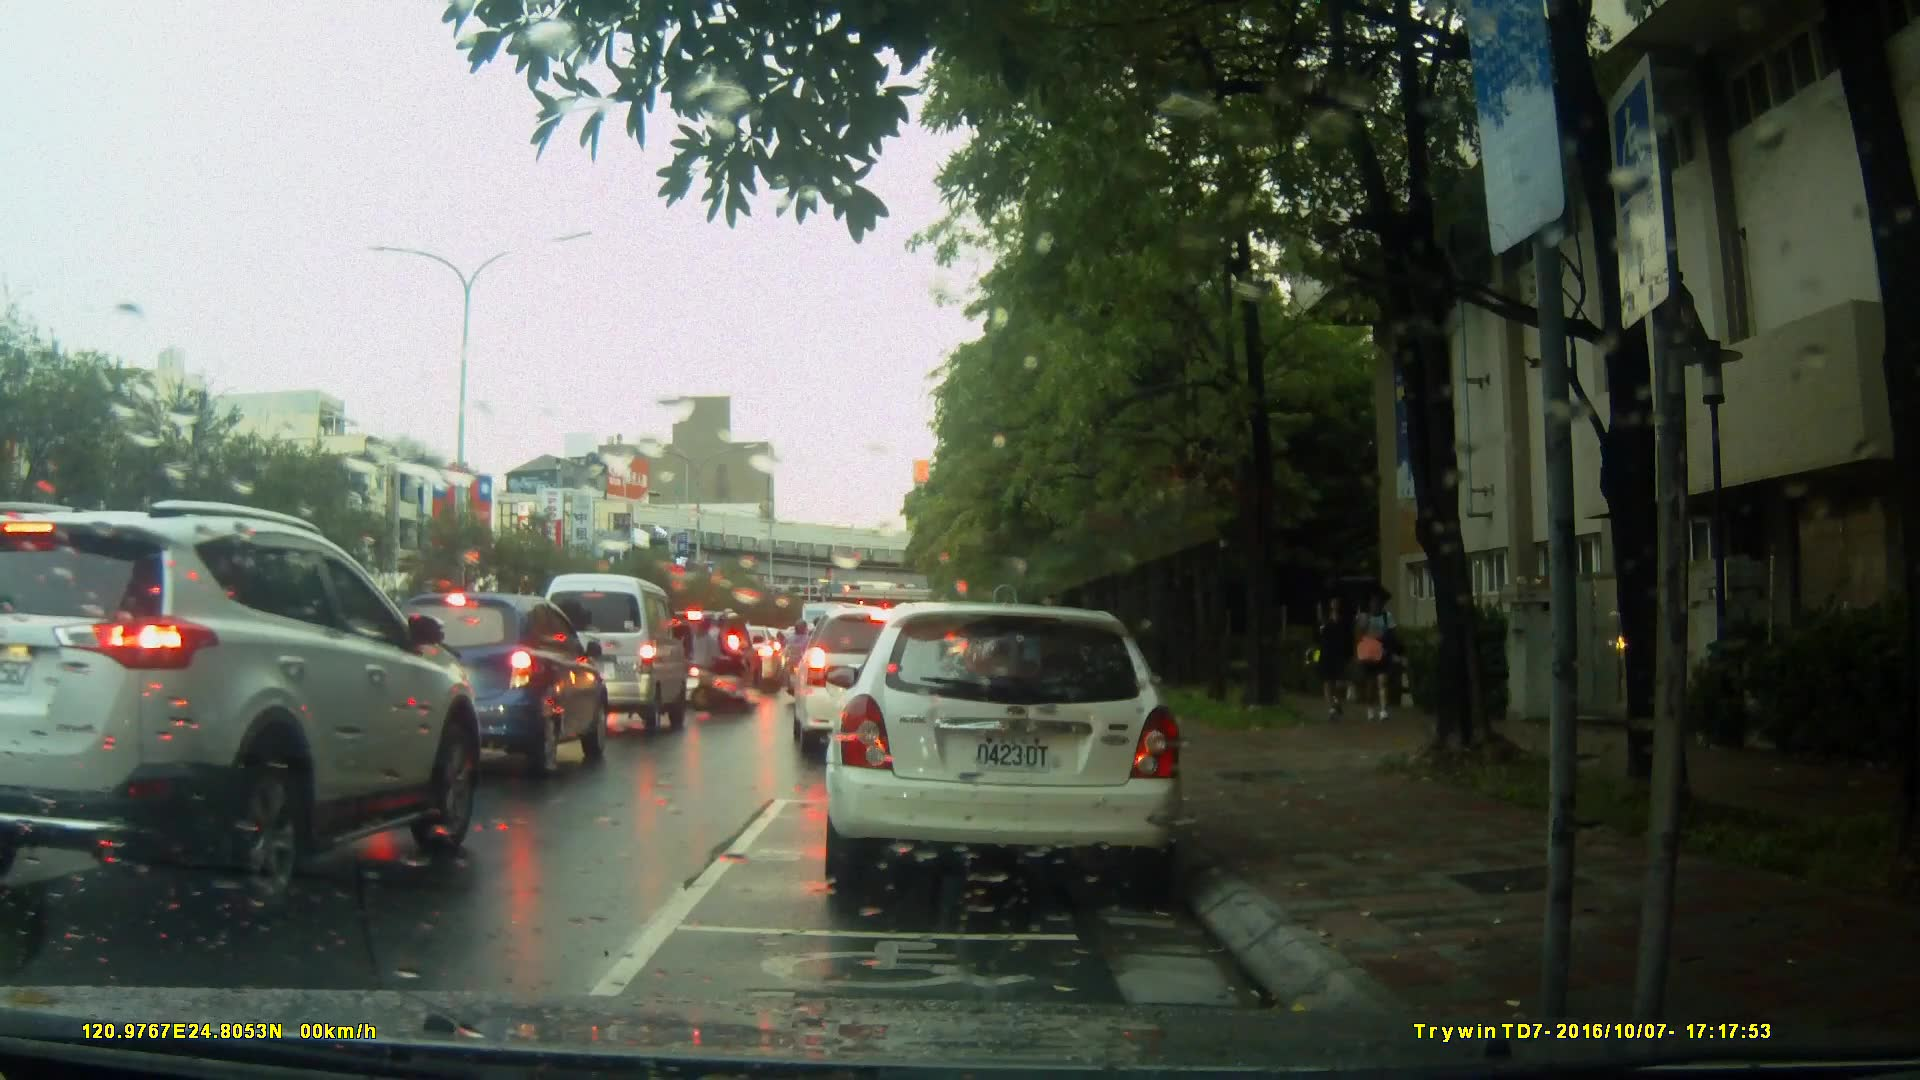pedestrian: (1290, 591, 1353, 721), (1348, 575, 1401, 724)
rider: (695, 610, 755, 716)
vehicle: (1, 495, 495, 920), (815, 593, 1204, 909), (366, 591, 611, 782), (536, 570, 691, 740), (795, 603, 963, 760), (648, 607, 763, 709)
